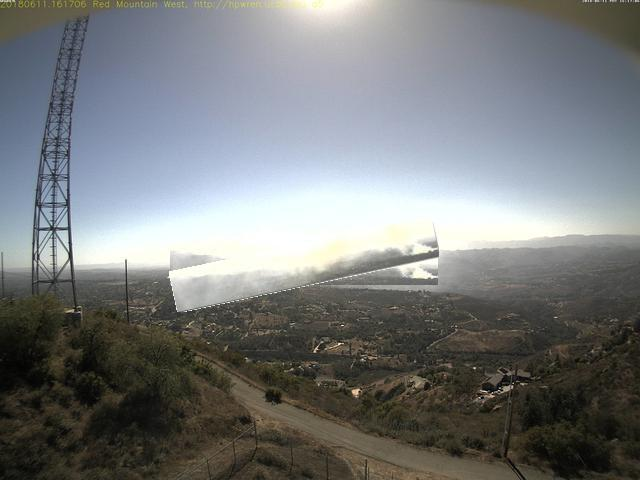smoke: (171, 231, 441, 301)
